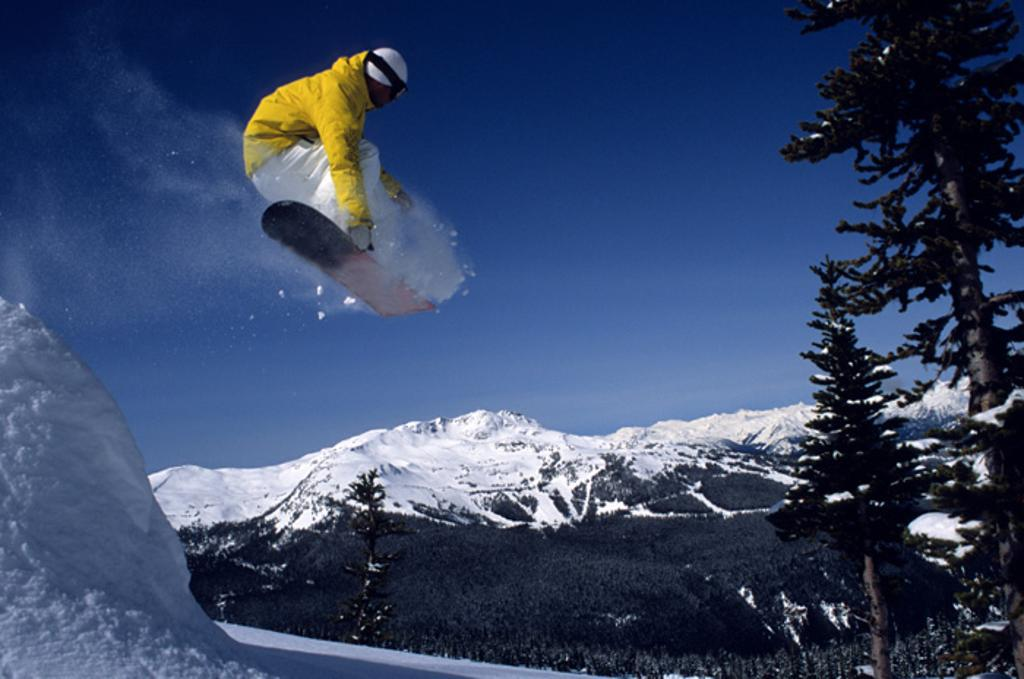face: (371, 70, 409, 109)
